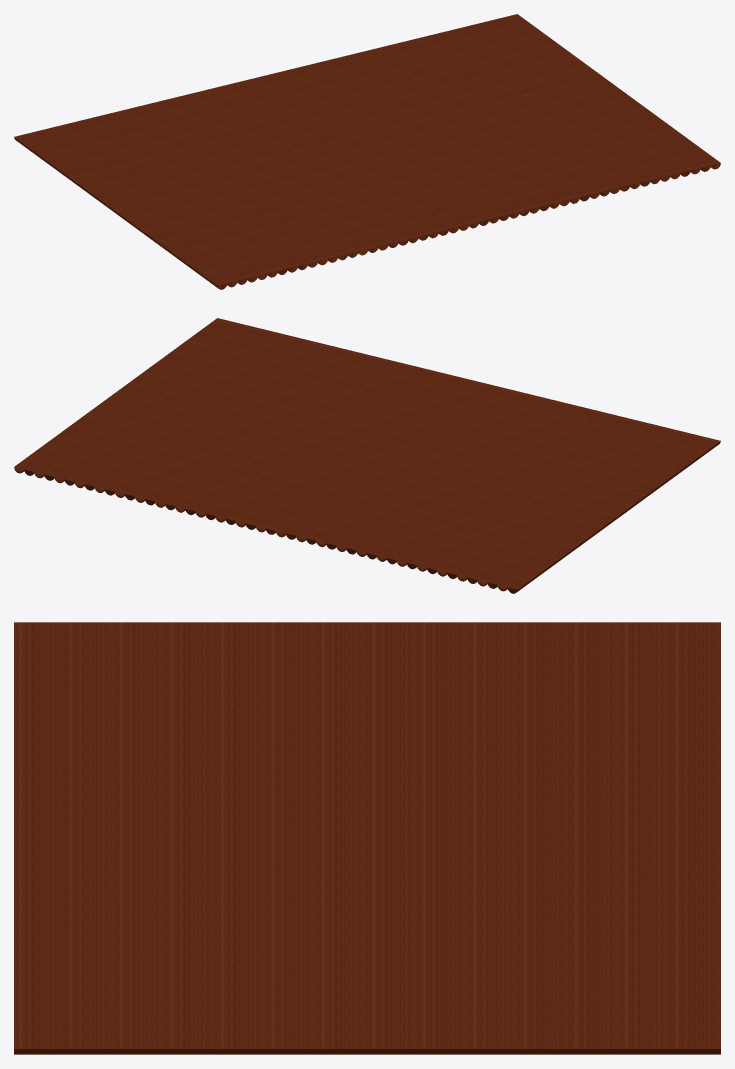
The model's file is WoodFloor_7x10_02.fbx.
3 views of the same model, one above another, from view 1: azimuth 30°, elevation 25°; view 2: azimuth 150°, elevation 25°; view 3: azimuth 270°, elevation 25° (orthographic). The views are drawn at different scales.
Visible parts, largest first — view 1: pCylinder404; view 2: pCylinder404; view 3: pCylinder404.
Part boxes in pixels (x1,y1,x2,y2): pCylinder404: (14, 14, 720, 289); pCylinder404: (14, 318, 720, 593); pCylinder404: (14, 622, 720, 1054).
Bounding box in the file's own units: 10 × 0.0951 × 7.
